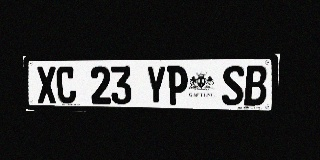2: (90, 66, 111, 104)
3: (111, 66, 131, 104)
B: (244, 65, 268, 106)
C: (56, 66, 76, 104)
P: (167, 66, 188, 105)
S: (222, 65, 245, 106)
X: (36, 66, 57, 103)
Y: (146, 66, 166, 105)
